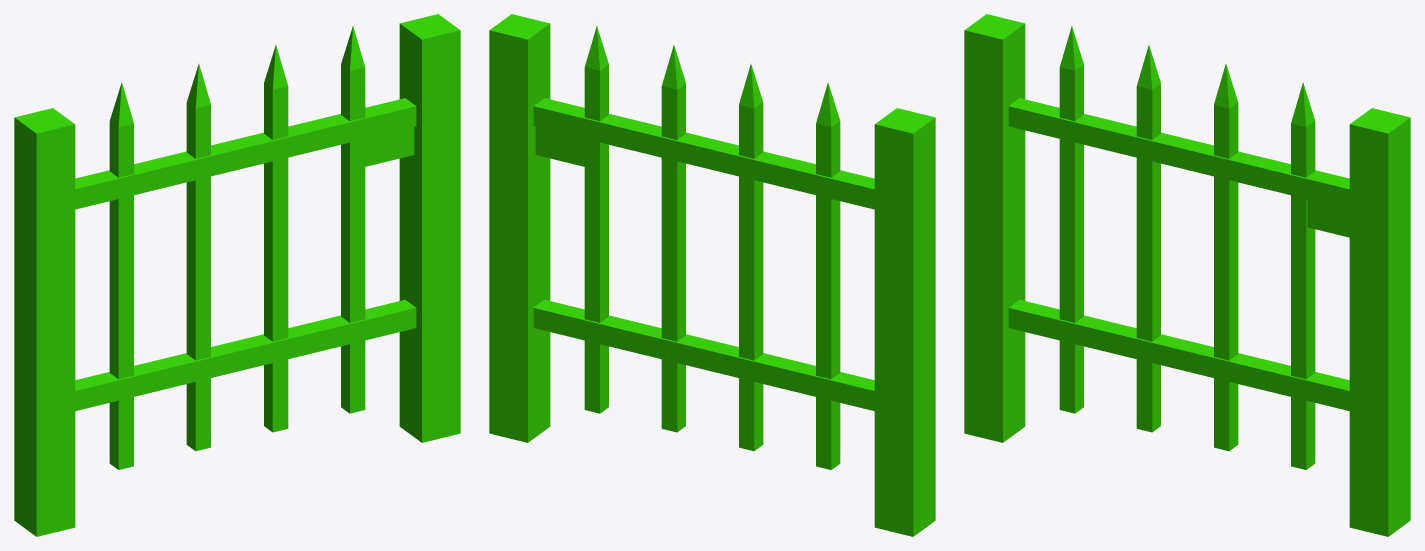
File: fence1_single_gate.fbx
3 views of the same model, side by side, from view 1: azimuth 30°, elevation 25°; view 2: azimuth 150°, elevation 25°; view 3: azimuth 330°, elevation 25° (orthographic).
Parts seen in each view (by area): view 1: fence1_single_gate, fence1_single_gate_support; view 2: fence1_single_gate, fence1_single_gate_support; view 3: fence1_single_gate, fence1_single_gate_support.
Part boxes in pixels (x1,y1,x2,y2): fence1_single_gate: (75, 26, 416, 469); fence1_single_gate_support: (14, 14, 460, 536); fence1_single_gate: (533, 26, 874, 469); fence1_single_gate_support: (489, 14, 935, 536); fence1_single_gate: (1008, 26, 1349, 469); fence1_single_gate_support: (964, 14, 1410, 536).
Size of the model in its own units: 110 by 105 by 10.
